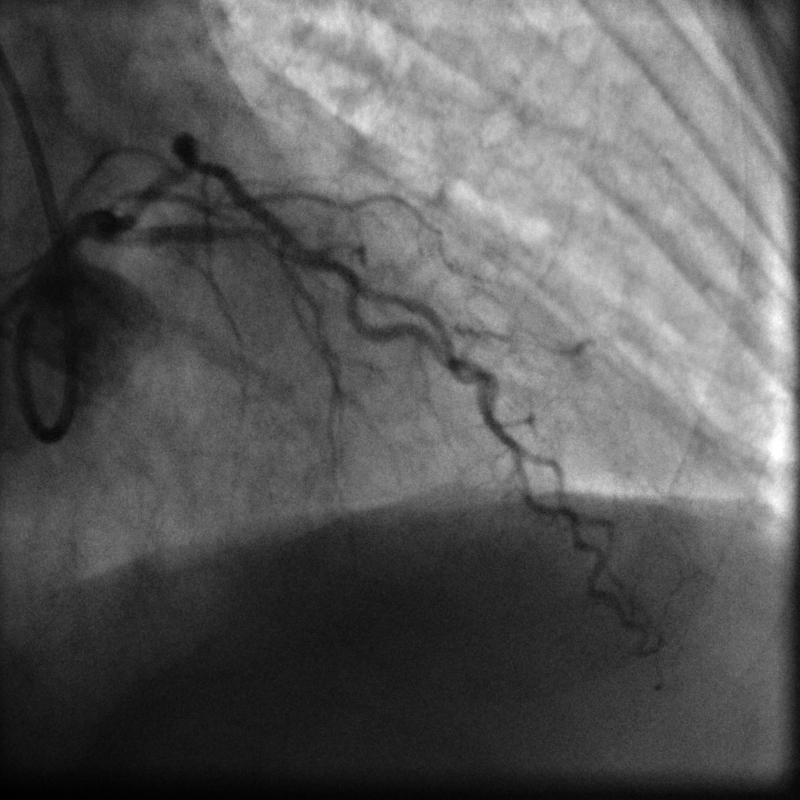Stenosis: (235, 218, 275, 257)
